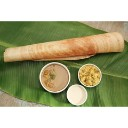dosa: (4, 32, 125, 62)
